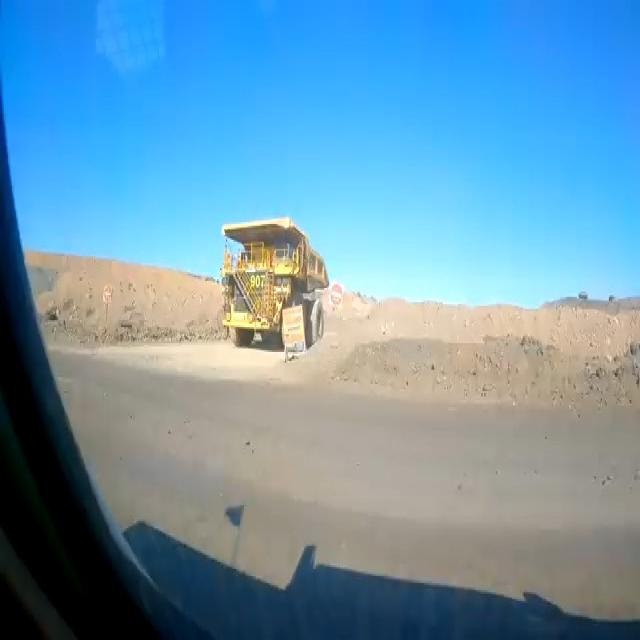dump_truck: (222, 207, 329, 356)
